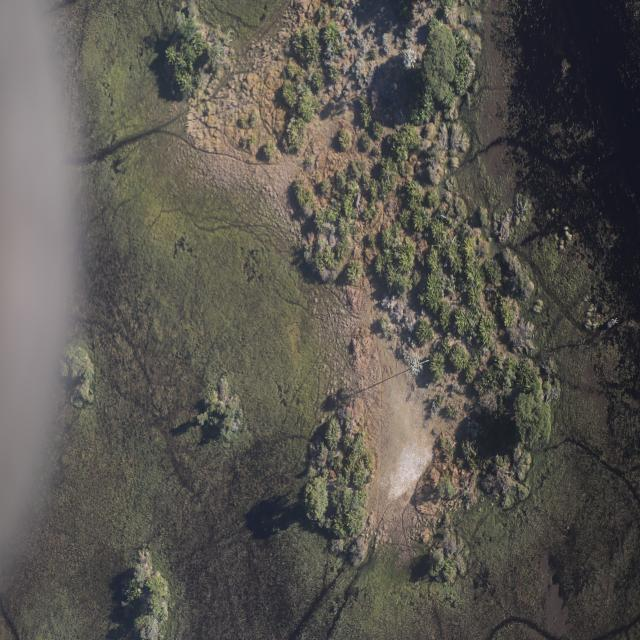elephant: (606, 315, 618, 329), (354, 192, 363, 210)
